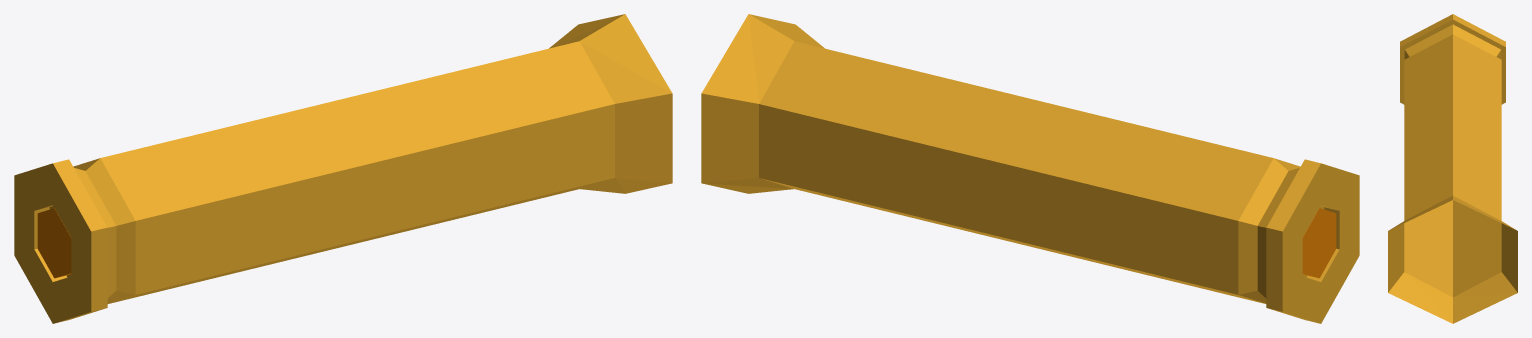
The model's file is case_556.glb.
The picture shows the model from 3 angles, left to right: view 1: azimuth 30°, elevation 25°; view 2: azimuth 150°, elevation 25°; view 3: azimuth 270°, elevation 25°; orthographic projection. The views are drawn at different scales.
Parts seen in each view (by area): view 1: Body.001; view 2: Body.001; view 3: Body.001.
Part boxes in pixels (left/top/right/bottom): Body.001: left=14, top=14, right=672, bottom=323; Body.001: left=701, top=14, right=1359, bottom=323; Body.001: left=1388, top=14, right=1517, bottom=323.
Bounding box in the file's own units: 0.4548 × 0.1365 × 0.1296.
